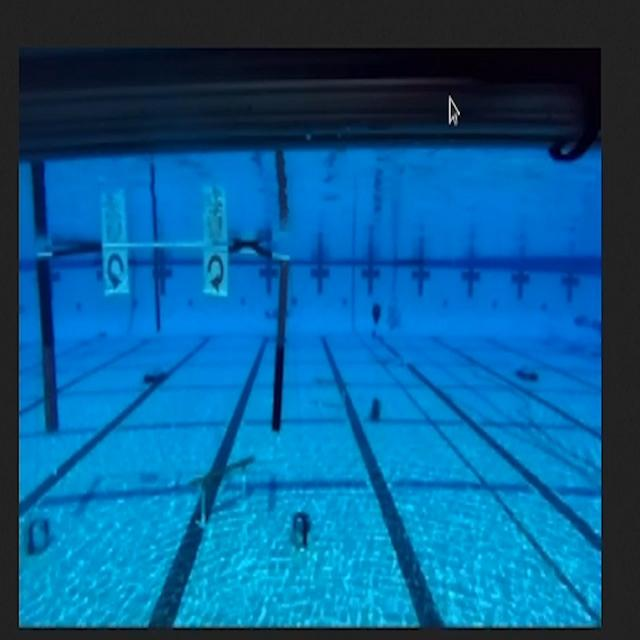Gate: (33, 232, 296, 443)
